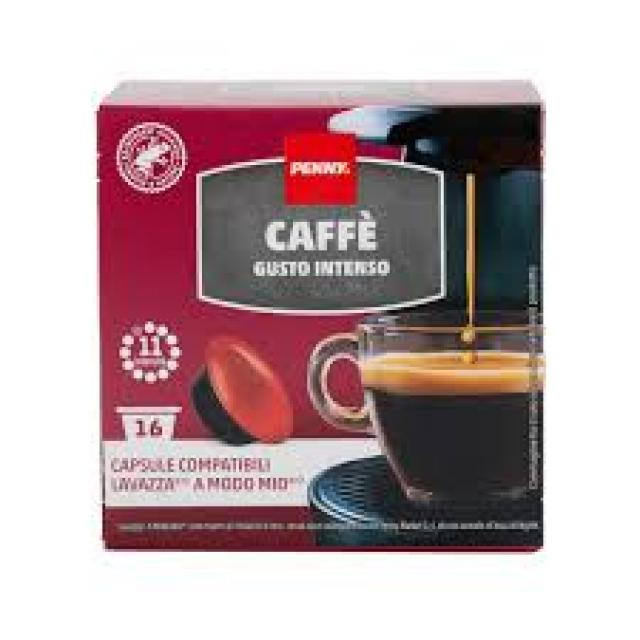coffee: (94, 77, 546, 552)
